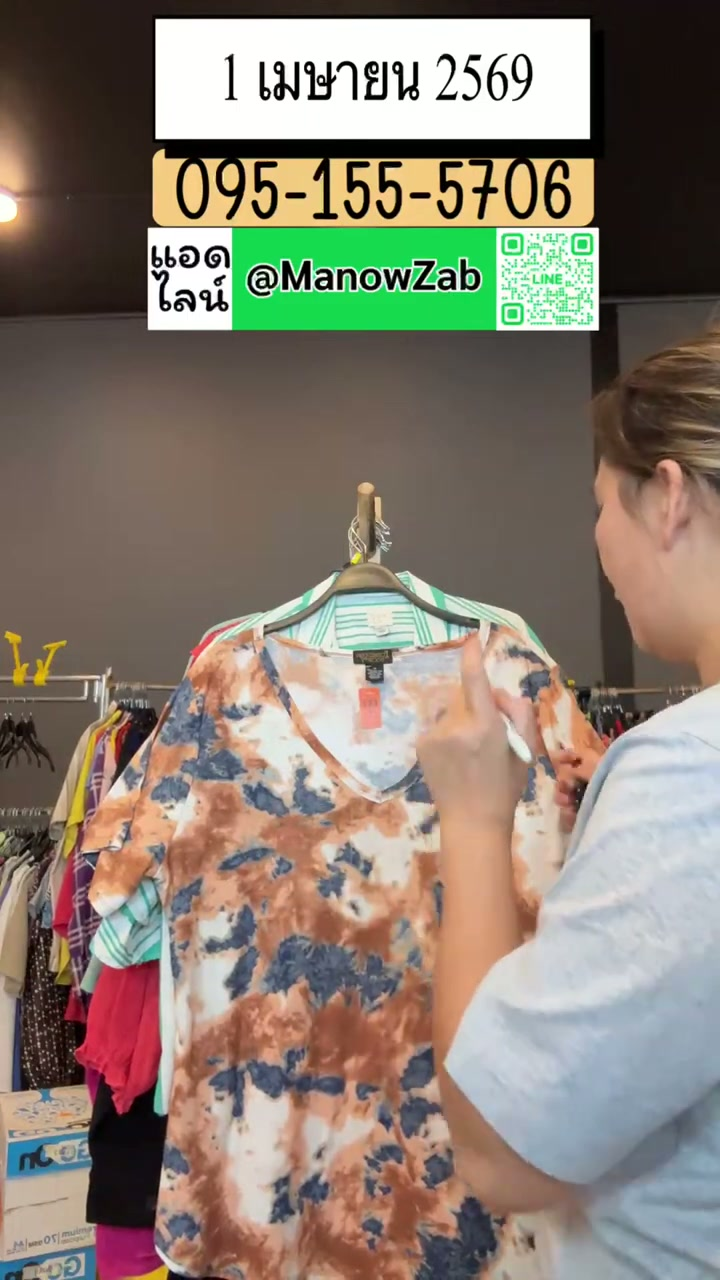display_shirt: (84, 599, 538, 1279), (452, 600, 587, 934)
